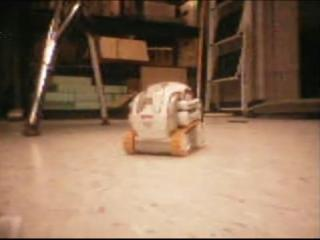cozmo: (122, 80, 206, 157)
